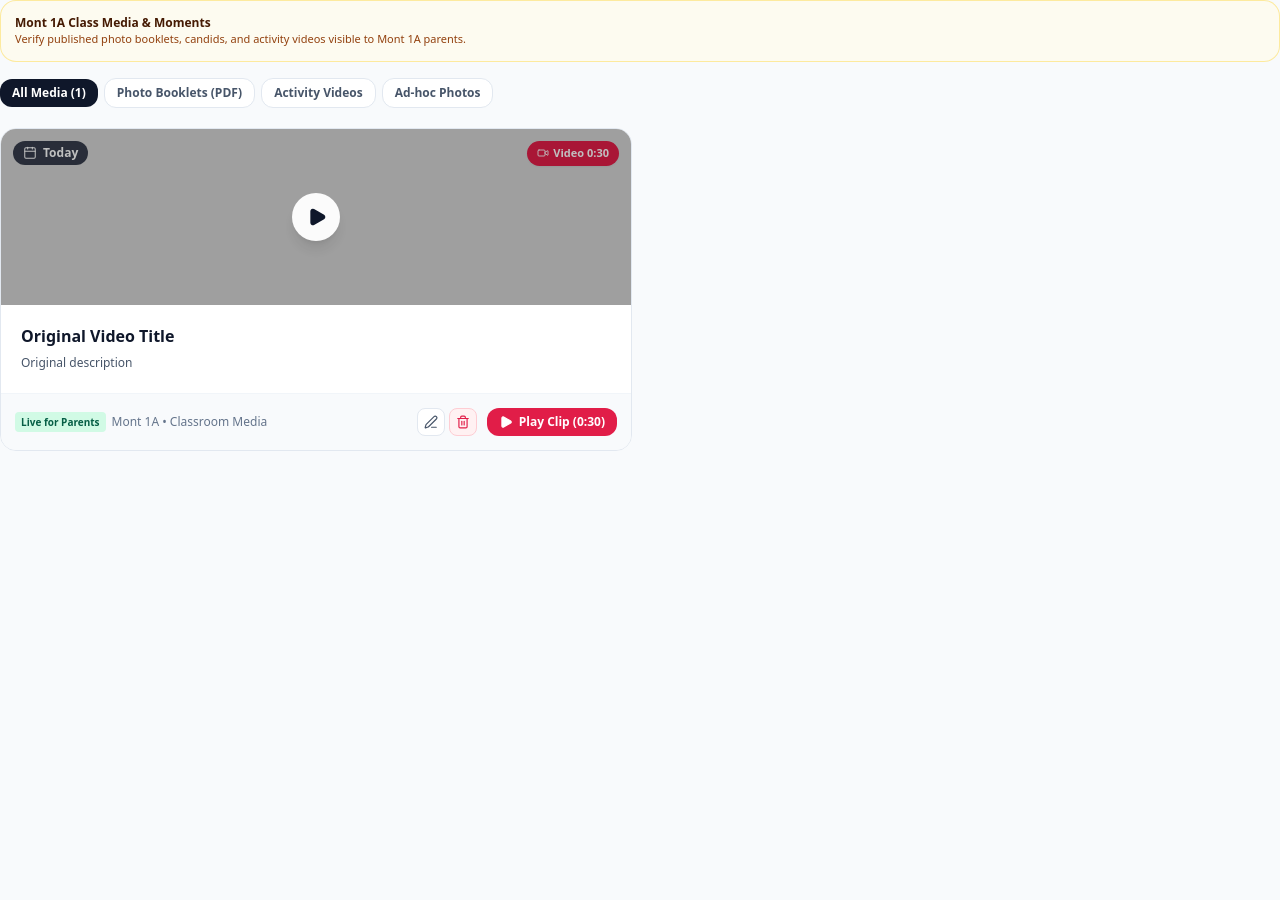
it: Suite: Media & Circular Governance (Section Targeting, Edit & Retract Workflows) › allows teacher to edit classroom media items in MediaGalleryModule
Later steps or results of the test are not shown.
Click the button titled "Edit Media Details": (431, 422) [417, 408, 445, 436]
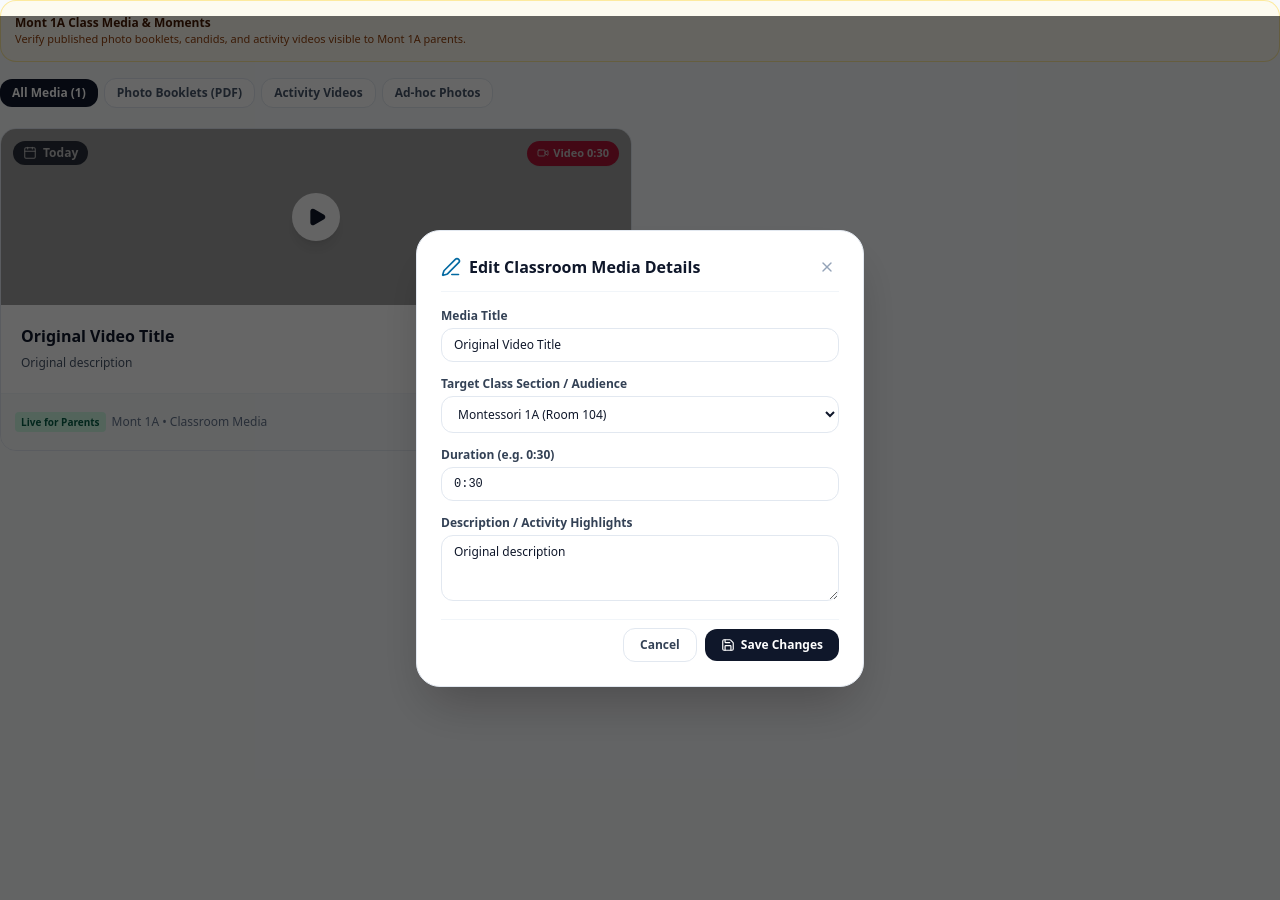
Check: the heading "Edit Classroom Media Details" is shown, box [469, 254, 700, 278]
